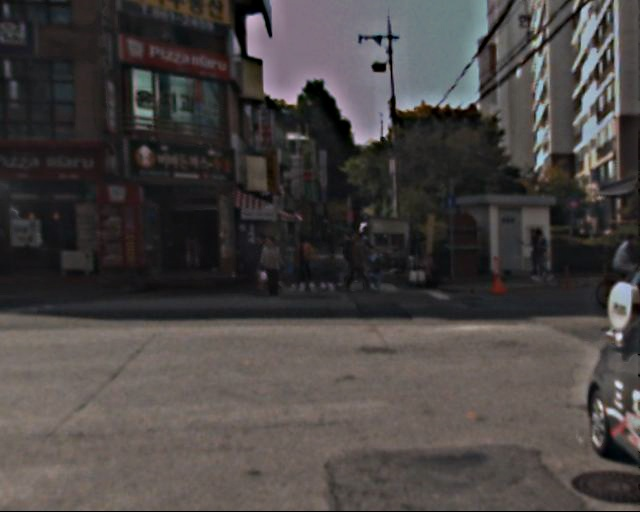person: (611, 235, 638, 302), (248, 236, 273, 296), (261, 238, 285, 296), (345, 233, 369, 291), (293, 234, 316, 290), (529, 227, 552, 282), (364, 246, 382, 291), (327, 228, 341, 263)
